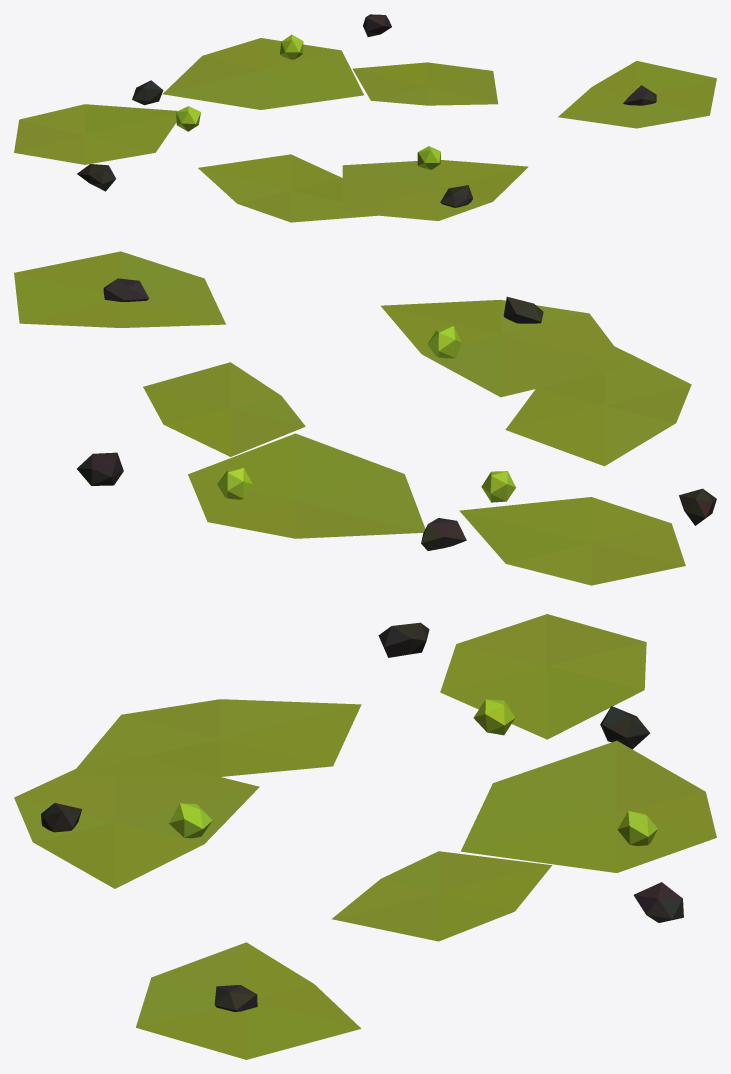
File: Fallout.glb
3 renders of one model, top to bottom at view 1: azimuth 30°, elevation 25°; view 2: azimuth 150°, elevation 25°; view 3: azimuth 270°, elevation 25°, orthographic. The views are drawn at different scales.
Visible parts, largest first — view 1: Fallout; view 2: Fallout; view 3: Fallout.
Boxes of the visible parts, x1=… form: Fallout: x1=14, y1=14, x2=716, y2=222; Fallout: x1=14, y1=251, x2=716, y2=585; Fallout: x1=14, y1=614, x2=716, y2=1059.
Size of the model in its own units: 1.55 by 0.0718 by 1.03.
